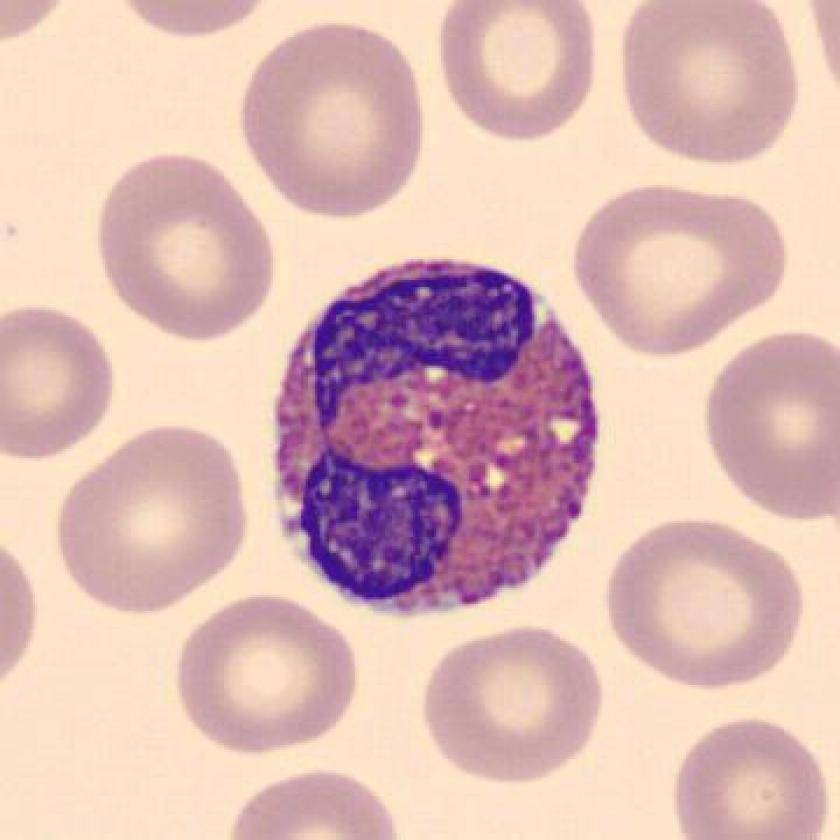eosinophil: (267, 246, 615, 628)
